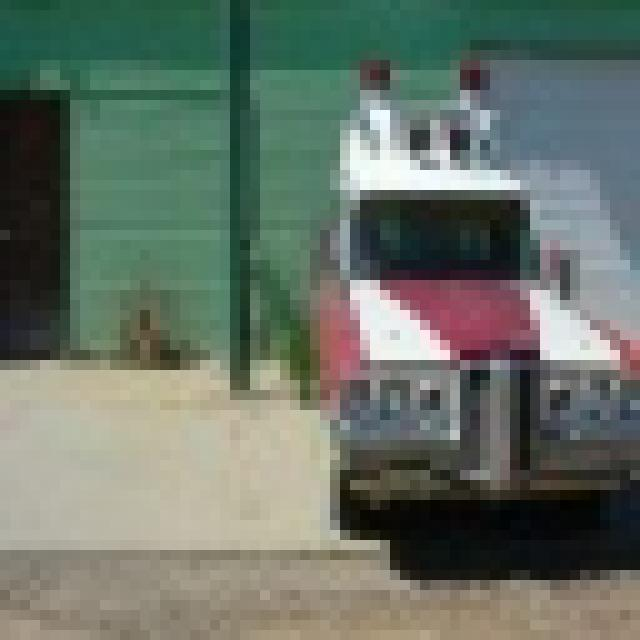Ambulance: (300, 50, 630, 530)
